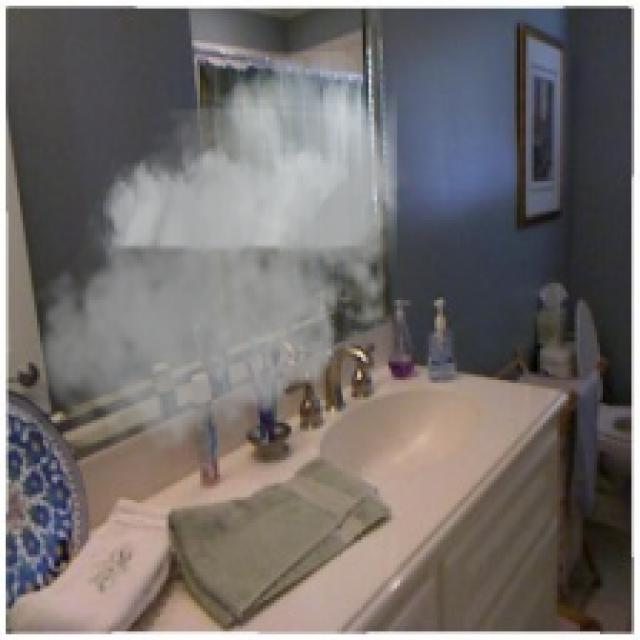Smoke: (31, 51, 412, 466)
